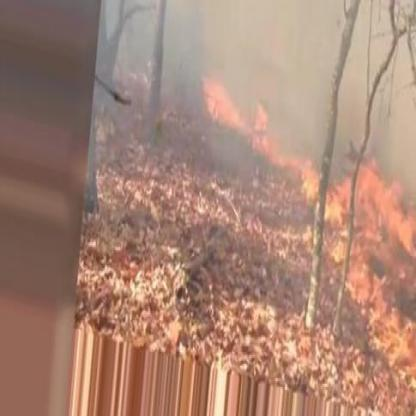fire: (317, 160, 414, 404), (199, 64, 315, 177)
